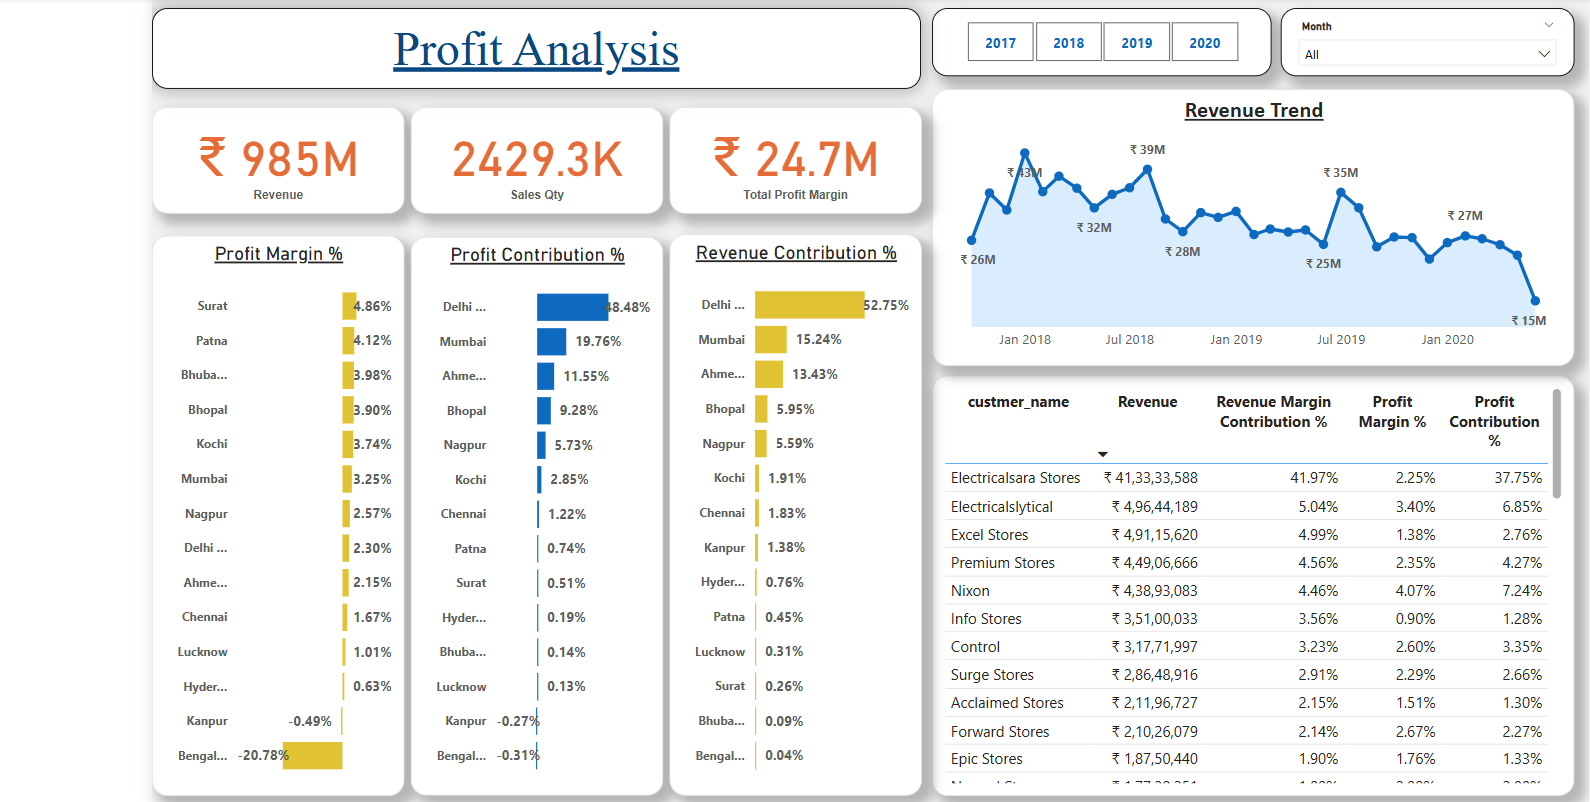

The dashboard page shown, as its layout file describes it:
{"tool":"powerbi","page":{"name":"Profit Analysis","canvas":[1280,720],"ordinal":1},"visuals":[{"type":"card","fields":{"Values":["Base Measures.Revenue"]},"box":[0,96.5,224.4,95.3],"z":0},{"type":"card","fields":{"Values":["Base Measures.Sales Qty"]},"box":[230.2,96.5,224.4,95.3],"z":1000},{"type":"barChart","title":"Profit Margin %","fields":{"Category":["markets.markets_name"],"Y":["Base Measures.Profit Margin %"]},"box":[0,211.6,224.4,498.8],"z":2000},{"type":"barChart","title":"Profit Contribution %","fields":{"Category":["markets.markets_name"],"Y":["Base Measures.Profit Margin Contribution %"]},"box":[230.2,212.8,224.4,497.7],"z":3000},{"type":"slicer","fields":{"Values":["date.date.Variation.Date Hierarchy.Year"]},"box":[694.2,9.3,302.3,60.5],"z":4000},{"type":"slicer","fields":{"Values":["date.date.Variation.Date Hierarchy.Month"]},"box":[1004.7,9.3,261.6,60.5],"z":5000},{"type":"tableEx","title":"Top 5 Customers","fields":{"Values":["customers.custmer_name","Base Measures.Revenue","Base Measures.Revenue Margin Contribution %","Base Measures.Profit Margin %","Base Measures.Profit Margin Contribution %"]},"box":[694.2,336,572.1,374.4],"z":6000},{"type":"lineChart","title":"Revenue Trend","fields":{"Category":["date.cy_date"],"Y":["Base Measures.Revenue"]},"box":[694.2,81.4,572.1,246.5],"z":7000},{"type":"card","fields":{"Values":["Base Measures.Total Profit Margin"]},"box":[460.5,96.5,224.4,95.3],"z":8000},{"type":"barChart","title":"Revenue Contribution %","fields":{"Category":["markets.markets_name"],"Y":["Base Measures.Revenue Margin Contribution %"]},"box":[460.5,210.5,224.4,500],"z":9000},{"type":"textbox","box":[0,9.3,684.9,72.1],"z":10000}]}

Visuals, with their boxes in screenshot pixels (x1, y1, x2, y2):
card - Base Measures.Revenue: x1=141 y1=102 x2=397 y2=211
card - Base Measures.Sales Qty: x1=403 y1=102 x2=659 y2=211
"Profit Margin %" barChart: x1=141 y1=233 x2=397 y2=801
"Profit Contribution %" barChart: x1=403 y1=234 x2=659 y2=801
slicer - date.date.Variation.Date Hierarchy.Year: x1=933 y1=2 x2=1277 y2=71
slicer - date.date.Variation.Date Hierarchy.Month: x1=1287 y1=2 x2=1585 y2=71
"Top 5 Customers" tableEx: x1=933 y1=375 x2=1585 y2=801
"Revenue Trend" lineChart: x1=933 y1=85 x2=1585 y2=366
card - Base Measures.Total Profit Margin: x1=666 y1=102 x2=922 y2=211
"Revenue Contribution %" barChart: x1=666 y1=232 x2=922 y2=801
textbox: x1=141 y1=2 x2=922 y2=85
